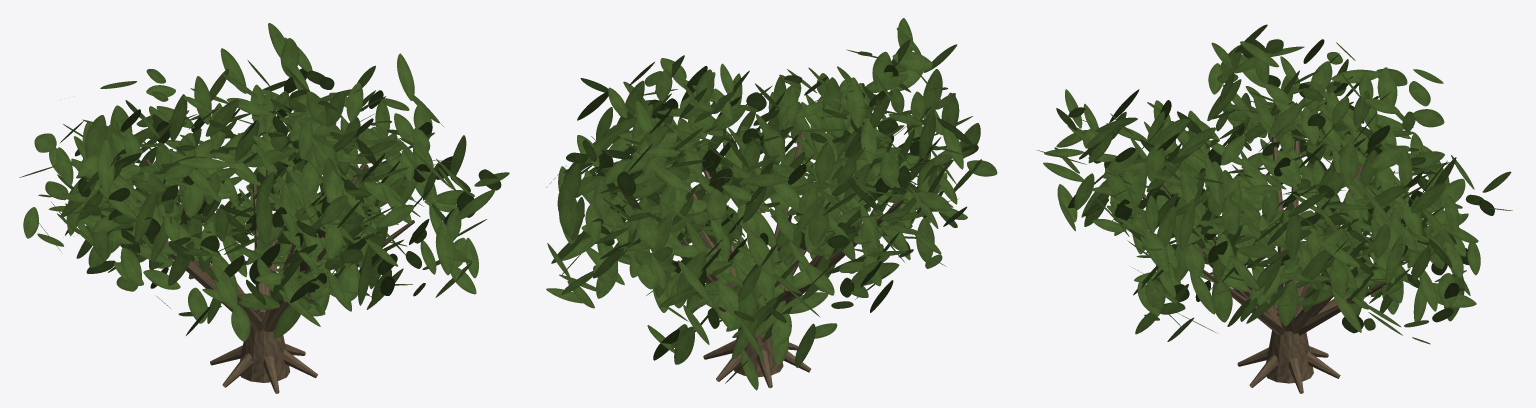
The model's file is bush.glb.
3 views of the same model, side by side, from view 1: azimuth 30°, elevation 25°; view 2: azimuth 150°, elevation 25°; view 3: azimuth 270°, elevation 25° (orthographic). The views are drawn at different scales.
Parts seen in each view (by area): view 1: bush_premium, Bush_root_flare; view 2: bush_premium, Bush_root_flare; view 3: bush_premium, Bush_root_flare.
Part boxes in pixels (x1,y1,x2,y2): bush_premium: (19, 23, 509, 341); Bush_root_flare: (210, 309, 317, 393); bush_premium: (546, 18, 997, 390); Bush_root_flare: (703, 327, 810, 388); bush_premium: (1036, 24, 1512, 344); Bush_root_flare: (1237, 307, 1340, 393).
Bounding box in the file's own units: 1.59 × 1.1 × 1.76.
2 materials, 2 textured.
